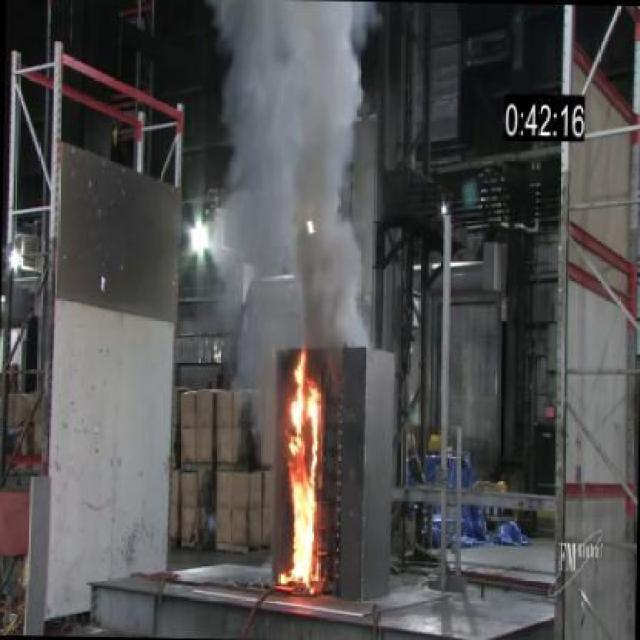fire: (202, 3, 378, 323)
smoke: (276, 344, 327, 598)
